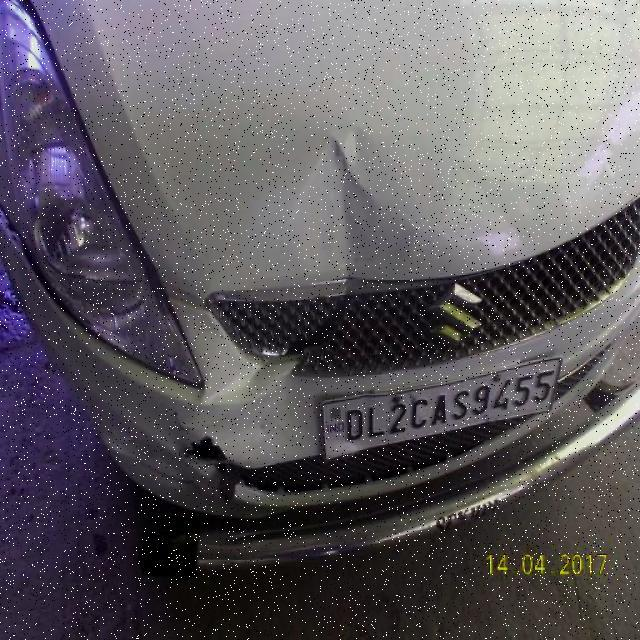car damage: (252, 132, 485, 282), (276, 290, 360, 369), (204, 356, 306, 408), (213, 452, 252, 509), (180, 434, 237, 470)
